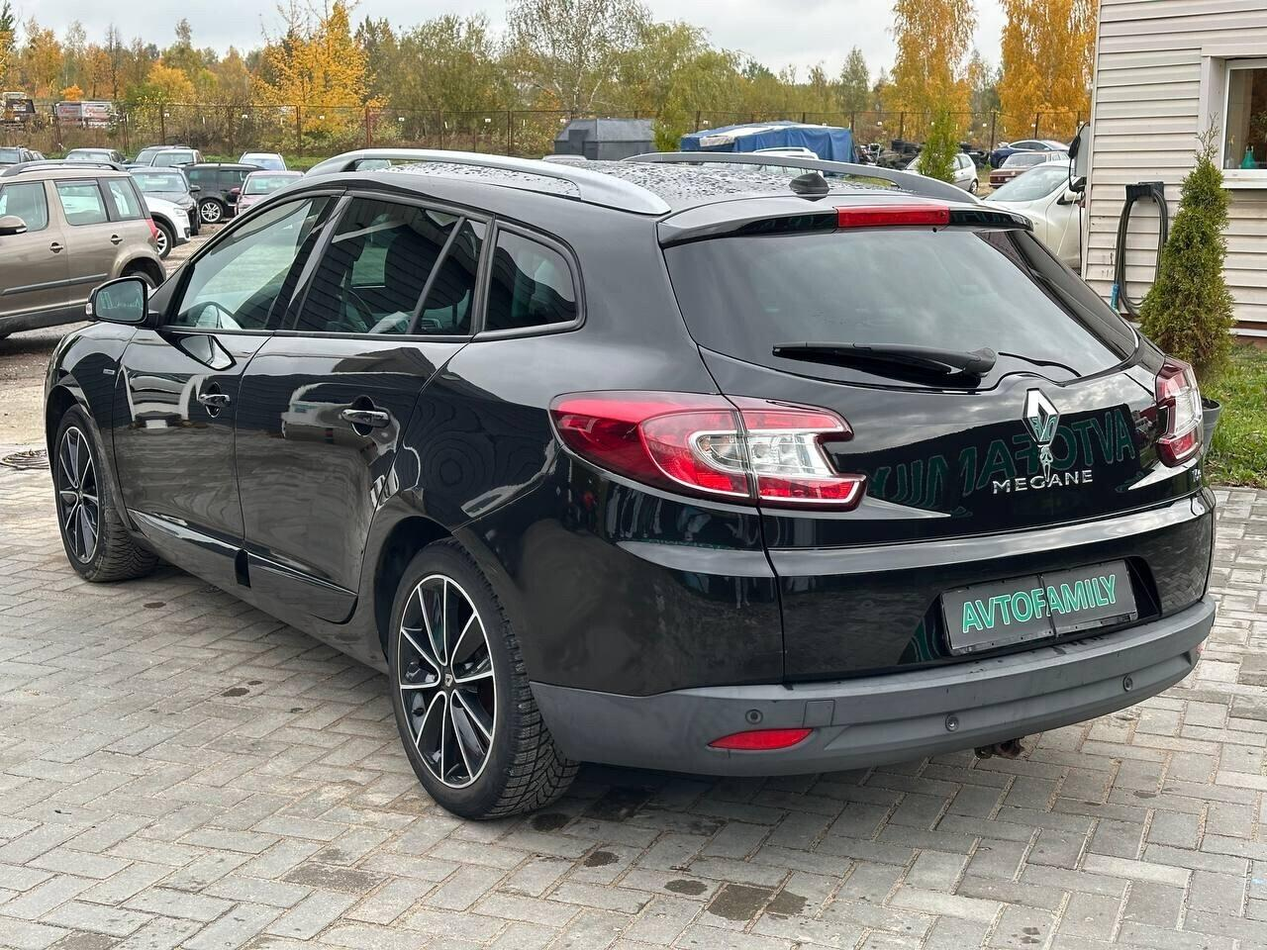Megane_2012-2014: (46, 146, 1224, 830)
